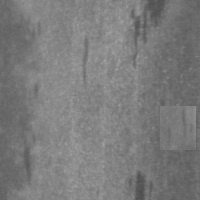inclusion: (126, 1, 151, 73), (17, 116, 39, 193), (71, 31, 97, 92), (160, 106, 196, 150), (132, 166, 155, 200)
